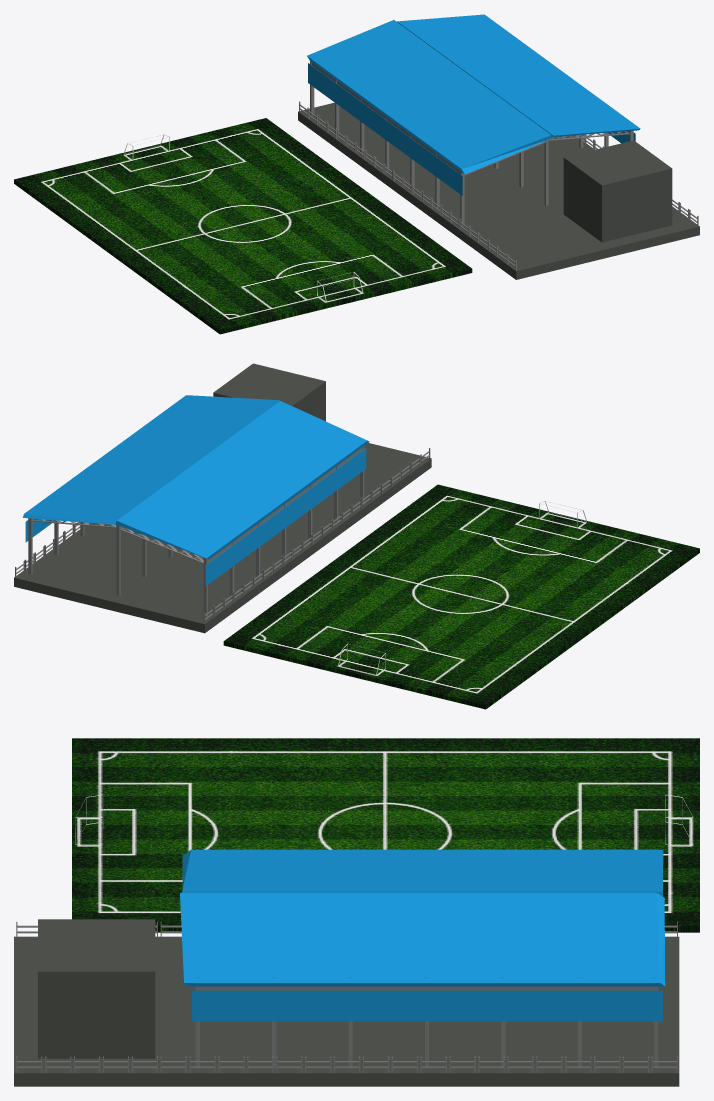
The model's file is Dern_teh_barn.glb.
3 renders of one model, top to bottom at view 1: azimuth 30°, elevation 25°; view 2: azimuth 150°, elevation 25°; view 3: azimuth 270°, elevation 25°, orthographic. The views are drawn at different scales.
Visible parts, largest first — view 1: Plane, Plane.001, Cube.012, Cube.009, Cube.008, Cube.021, Cube.018, Cube.023, Cube.025; view 2: Plane, Plane.001, Cube.012, Cube.009, Cube.021, Cube.008, Cube.018, Cube.023, Cube.031, Cube.025; view 3: Plane, Cube.009, Plane.001, Cube.012, Cube.008, Cube.022, Cube.002, Cube.025, Cube.018.
Boxes of the visible parts, x1,y1,x2,y2 form: Plane: (14,118,472,334); Plane.001: (298,102,699,279); Cube.012: (307,20,551,174); Cube.009: (397,14,640,137); Cube.008: (563,140,672,242); Cube.021: (308,63,462,195); Cube.018: (310,61,633,226); Cube.023: (299,101,516,270); Cube.025: (312,62,629,178); Plane: (223,484,699,709); Plane.001: (14,443,431,633); Cube.012: (116,401,369,559); Cube.009: (23,395,279,524); Cube.021: (205,448,366,586); Cube.008: (213,363,325,421); Cube.018: (28,446,364,617); Cube.023: (203,448,430,623); Cube.031: (30,398,203,563); Cube.025: (32,447,362,563); Plane: (72,738,699,932); Cube.009: (180,892,665,986); Plane.001: (14,936,679,1086); Cube.012: (182,849,663,896); Cube.008: (38,919,155,1058); Cube.022: (192,990,662,1021); Cube.002: (16,1056,677,1072); Cube.025: (200,986,654,990); Cube.018: (195,986,658,1068).
Bounding box in the file's own units: 94.95 × 16.37 × 80.27.
4 materials, 1 textured.
